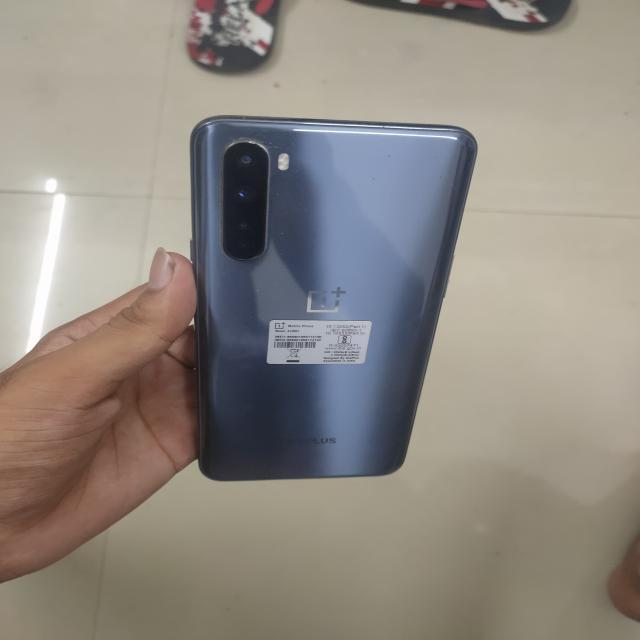Phone: (188, 119, 482, 487)
